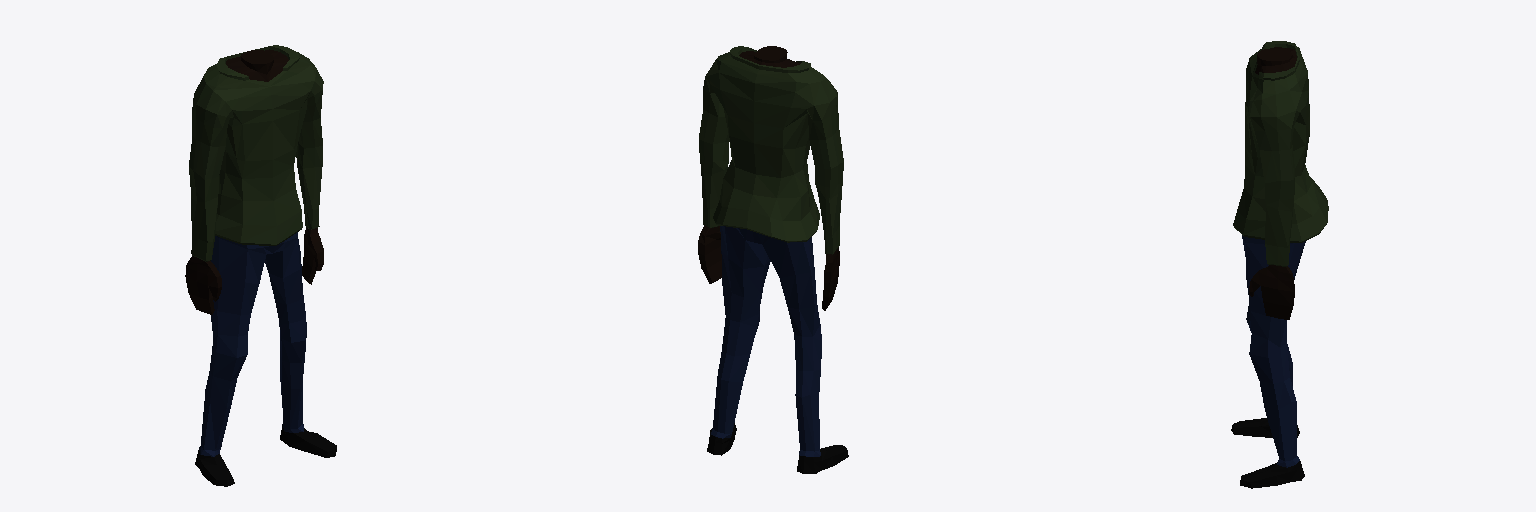
The model's file is postac.obj.
3 views of the same model, side by side, from view 1: azimuth 30°, elevation 25°; view 2: azimuth 150°, elevation 25°; view 3: azimuth 270°, elevation 25° (orthographic).
Visible parts, largest first — view 1: BaseHuman_Cylinder.002, BaseHuman_Cylinder.003, BaseHuman_Cylinder.004, BaseHuman_Cylinder.005; view 2: BaseHuman_Cylinder.002, BaseHuman_Cylinder.003, BaseHuman_Cylinder.004, BaseHuman_Cylinder.005; view 3: BaseHuman_Cylinder.002, BaseHuman_Cylinder.003, BaseHuman_Cylinder.004, BaseHuman_Cylinder.005.
Part boxes in pixels (bbox=[...]): BaseHuman_Cylinder.002: bbox=[189, 45, 323, 261]; BaseHuman_Cylinder.003: bbox=[199, 232, 306, 456]; BaseHuman_Cylinder.004: bbox=[185, 49, 323, 314]; BaseHuman_Cylinder.005: bbox=[195, 425, 336, 486]; BaseHuman_Cylinder.002: bbox=[699, 46, 843, 254]; BaseHuman_Cylinder.003: bbox=[711, 226, 821, 456]; BaseHuman_Cylinder.004: bbox=[698, 46, 839, 310]; BaseHuman_Cylinder.005: bbox=[707, 423, 848, 473]; BaseHuman_Cylinder.002: bbox=[1233, 41, 1328, 266]; BaseHuman_Cylinder.003: bbox=[1242, 235, 1305, 467]; BaseHuman_Cylinder.004: bbox=[1249, 47, 1296, 319]; BaseHuman_Cylinder.005: bbox=[1231, 418, 1304, 488].
Size of the model in its own units: 0.6174 by 1.78 by 0.391.